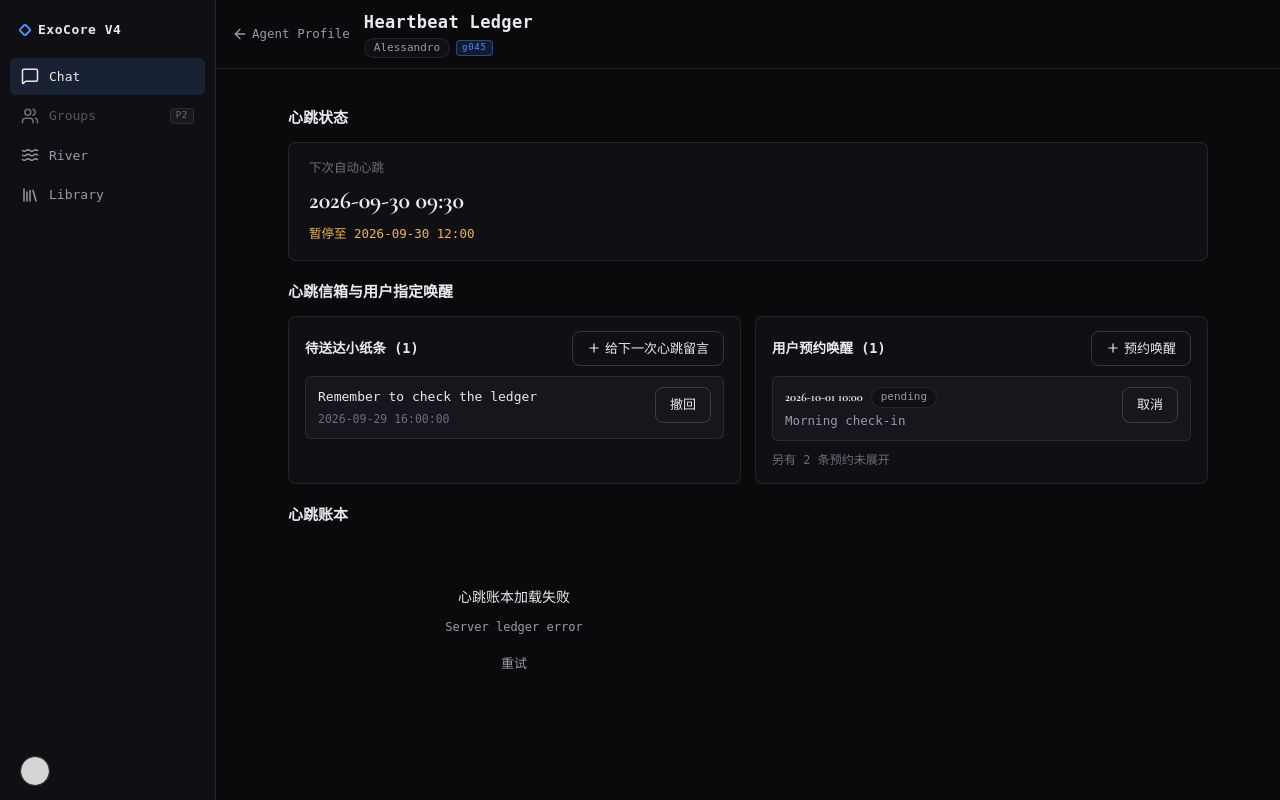
Heartbeat Page & Profile Entry (CP-A, Plan §2.1 / §2.2) › Error and retry states › displays error and allows retry when events query fails
expect the text "心跳账本加载失败" is shown: met, box left=458, top=587, right=570, bottom=608
Click the button "重试": (514,664) left=486, top=646, right=542, bottom=681
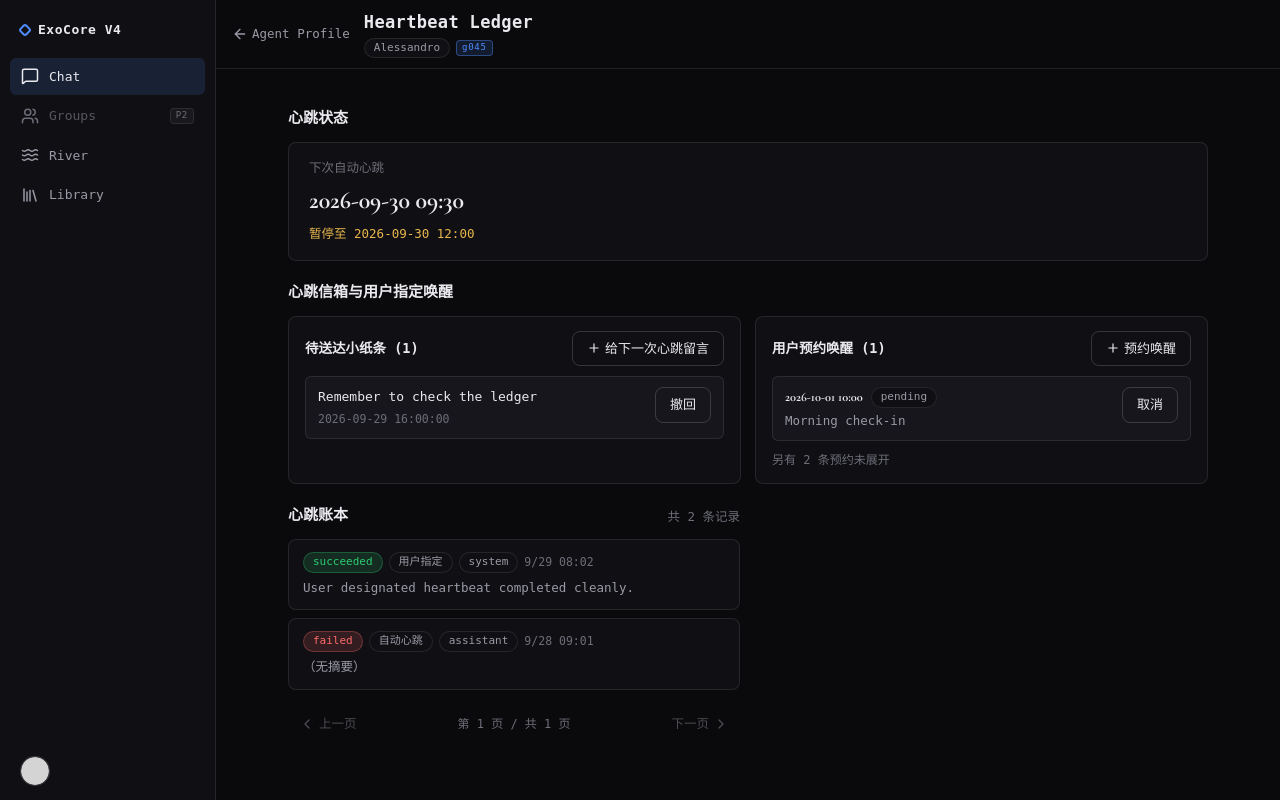
expect the text "User designated heartbeat completed cleanly." is shown: met, box left=303, top=578, right=634, bottom=597
